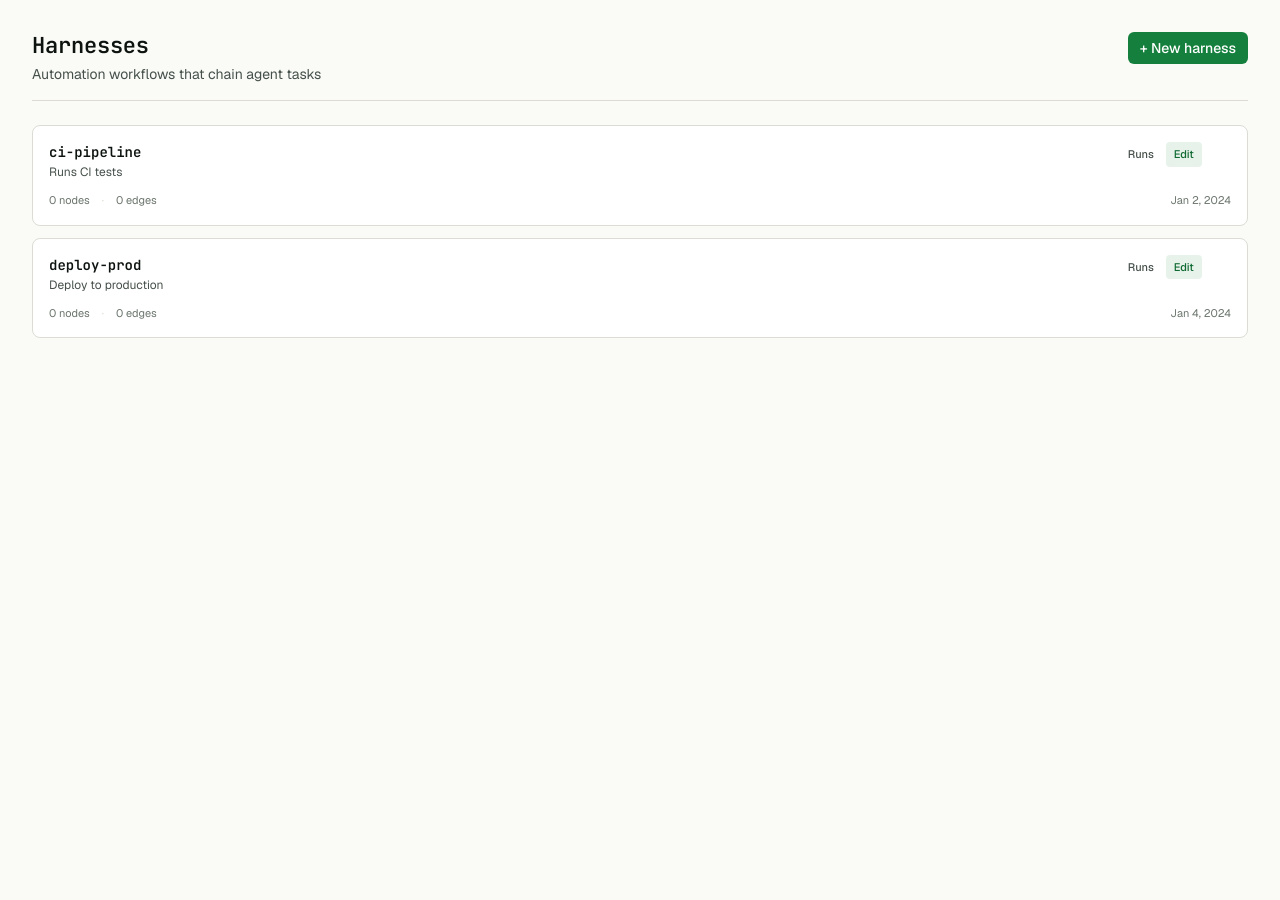
Scenario: HarnessListPage — CreateHarnessModal — Escape key dismisses › opens the create modal when '+ New harness' is clicked
Click the button "+ New harness" at x=1188, y=48, box [1128,32,1248,64]
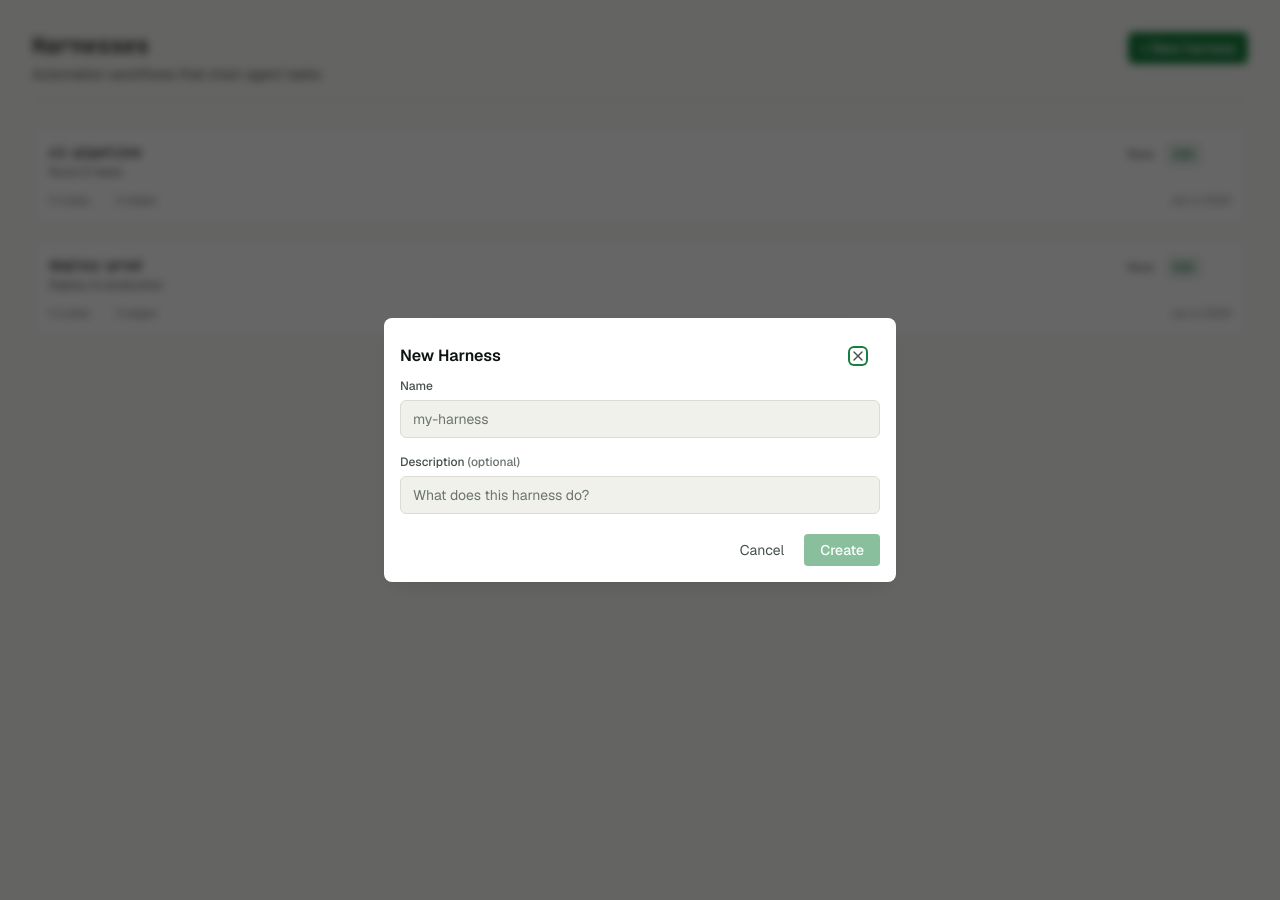
Result: the heading "New Harness" is shown at [400,344,501,368]
